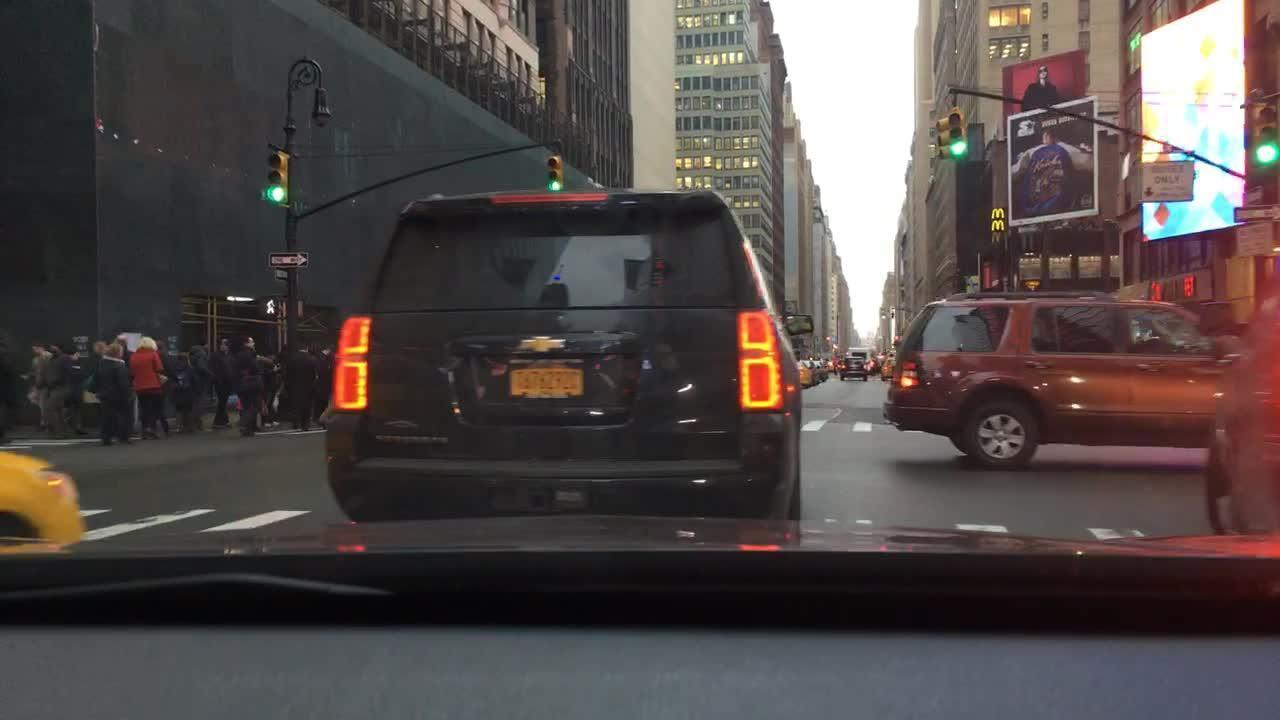chevrolet: (516, 330, 577, 355)
